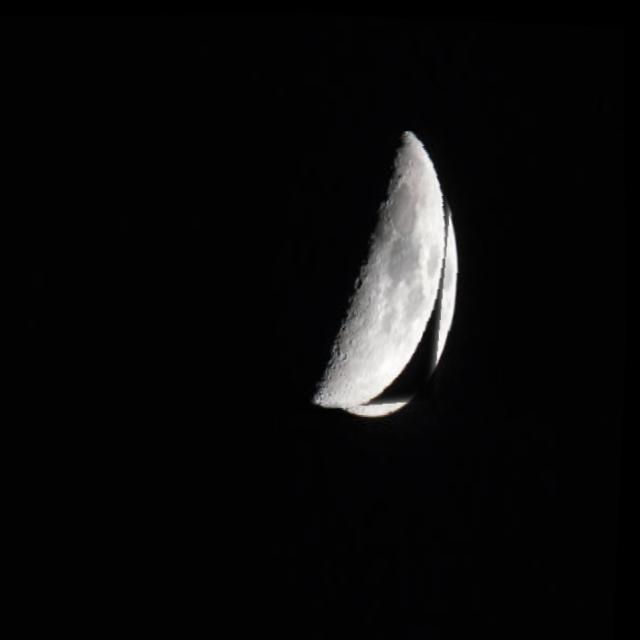moon: (257, 120, 474, 420)
